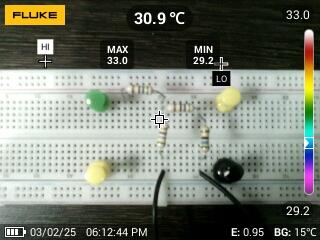resistor: (154, 119, 173, 150), (197, 124, 214, 154), (165, 101, 196, 115), (123, 83, 156, 96)
